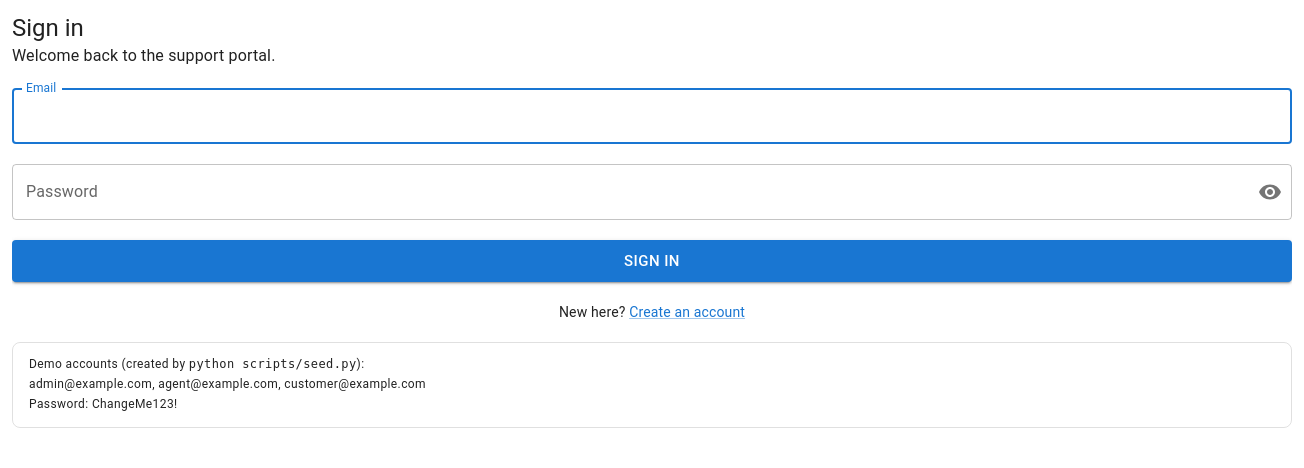
Scenario: Login page › rejects a malformed email
The image size is (1304, 468).
Type "not-an-email" into the field labelled "Email".
click(652, 116); type("not-an-email")  # box [12, 88, 1292, 144]
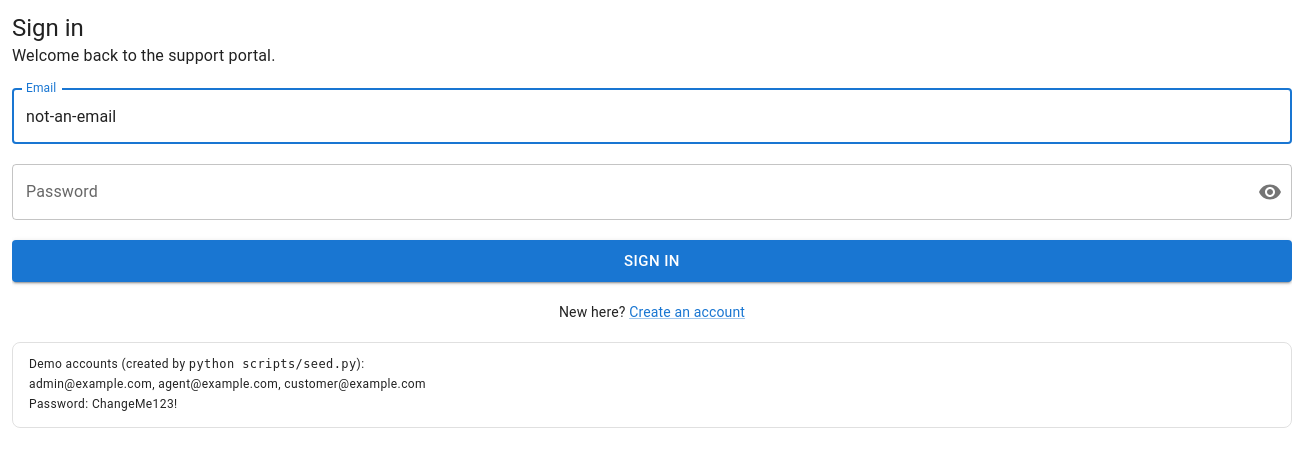
Type "Password123" into the password field labelled "Password".
click(627, 192); type("Password123")  # box [12, 164, 1242, 220]
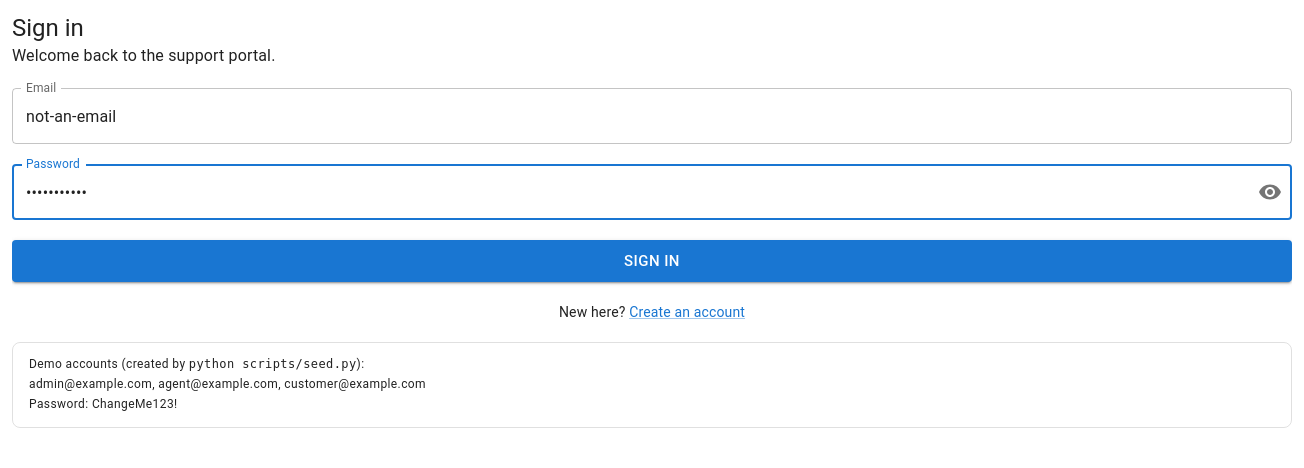
Click the button "Sign in".
click(652, 261)  # box [12, 240, 1292, 282]
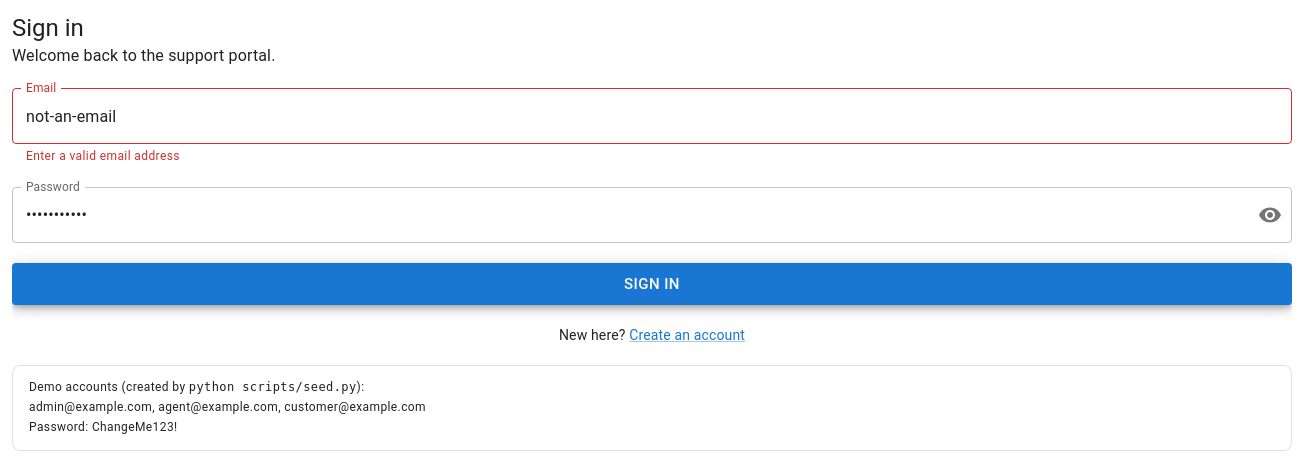
Now the text "Enter a valid email address" is shown, box [26, 149, 180, 163]
